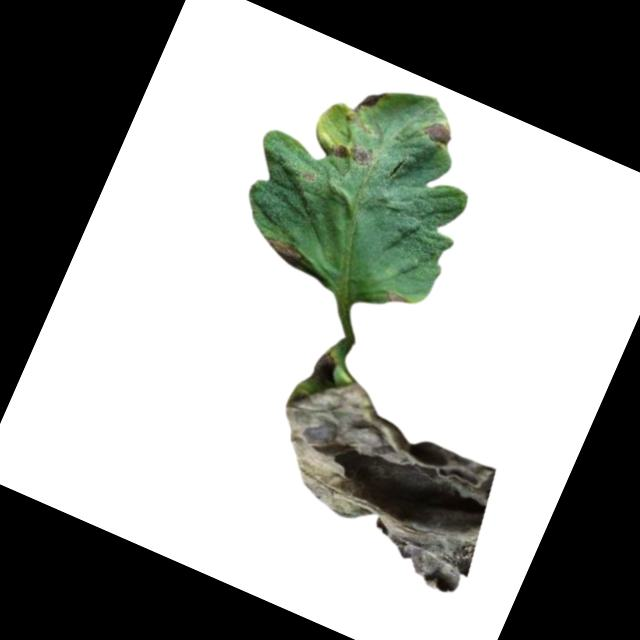Early_blight: (240, 343, 527, 600), (256, 232, 330, 282), (344, 81, 387, 130), (328, 134, 376, 171), (418, 113, 461, 149), (382, 287, 408, 307), (301, 167, 316, 182)
